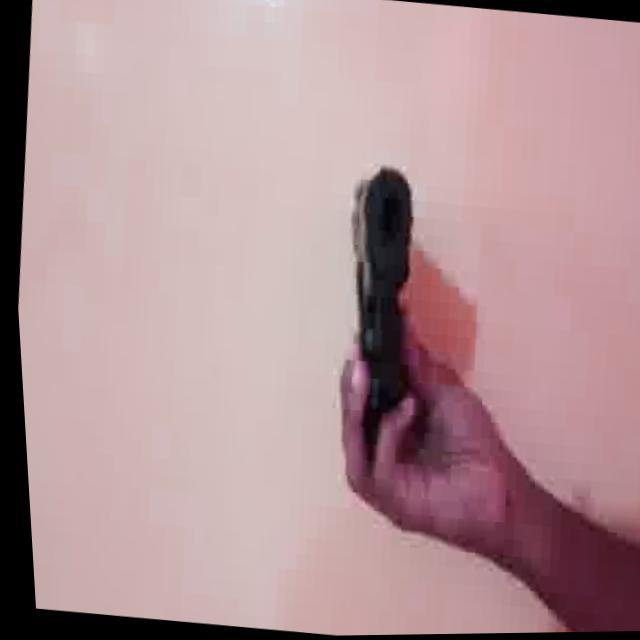weapon: (315, 162, 435, 462)
